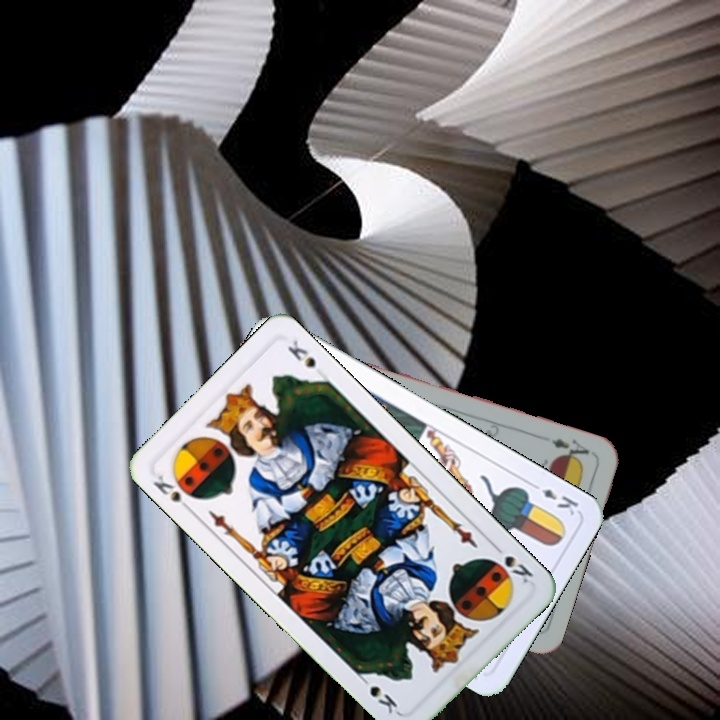EA: (547, 434, 592, 466)
EK: (526, 478, 582, 518)
SK: (149, 470, 201, 516), (486, 539, 536, 586)
